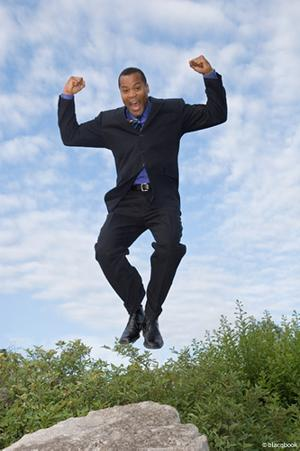person: (59, 57, 229, 343)
